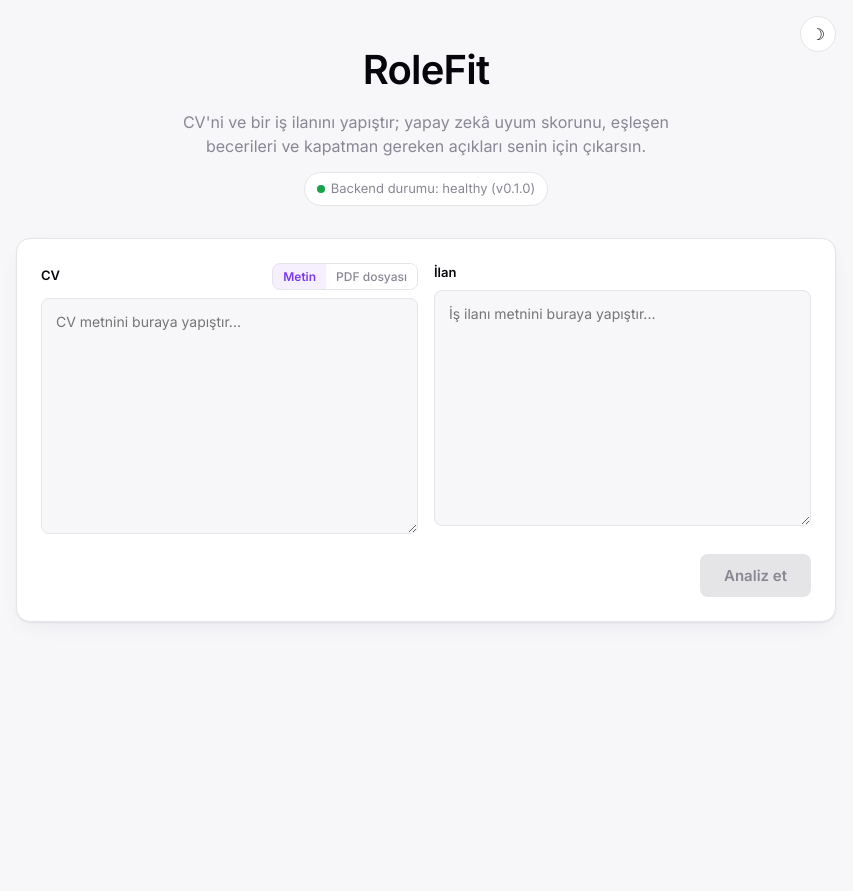
Test case: App › shows the analysis result after a successful submit
Step 1. Type "Örnek CV metni" into the text box labelled "CV" → (230, 416), box [41,298,418,534]
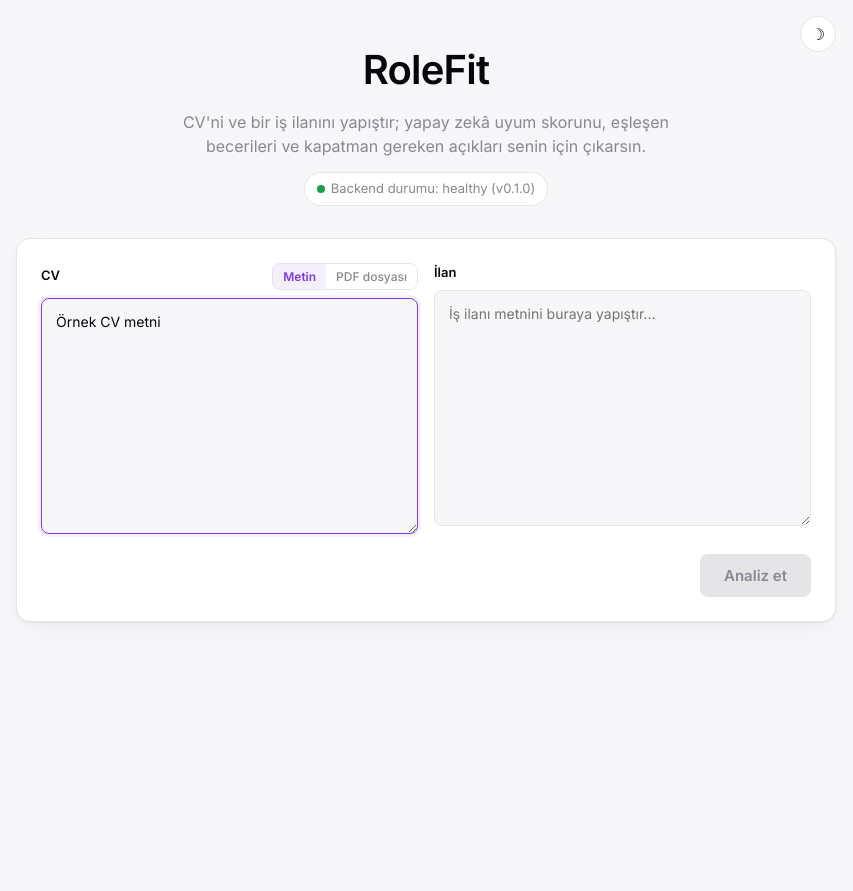
Step 2. Type "Örnek ilan metni" into the text box labelled "İlan" → (622, 408), box [434,290,811,526]
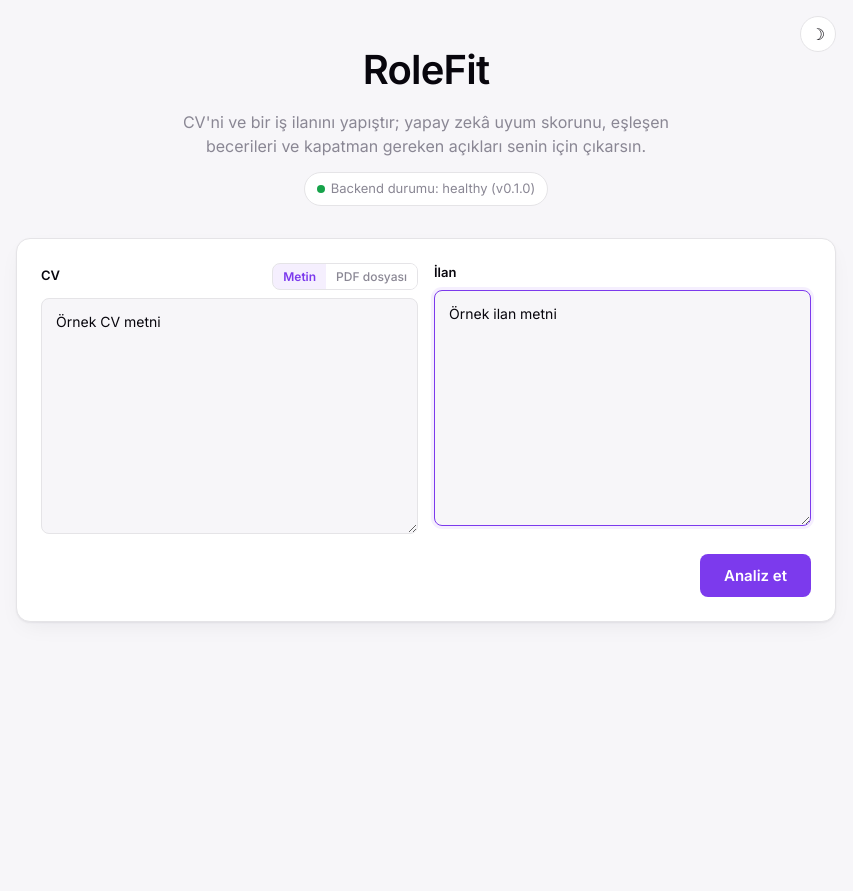
Step 3. Click the button "Analiz et" → (756, 575), box [700,554,811,596]
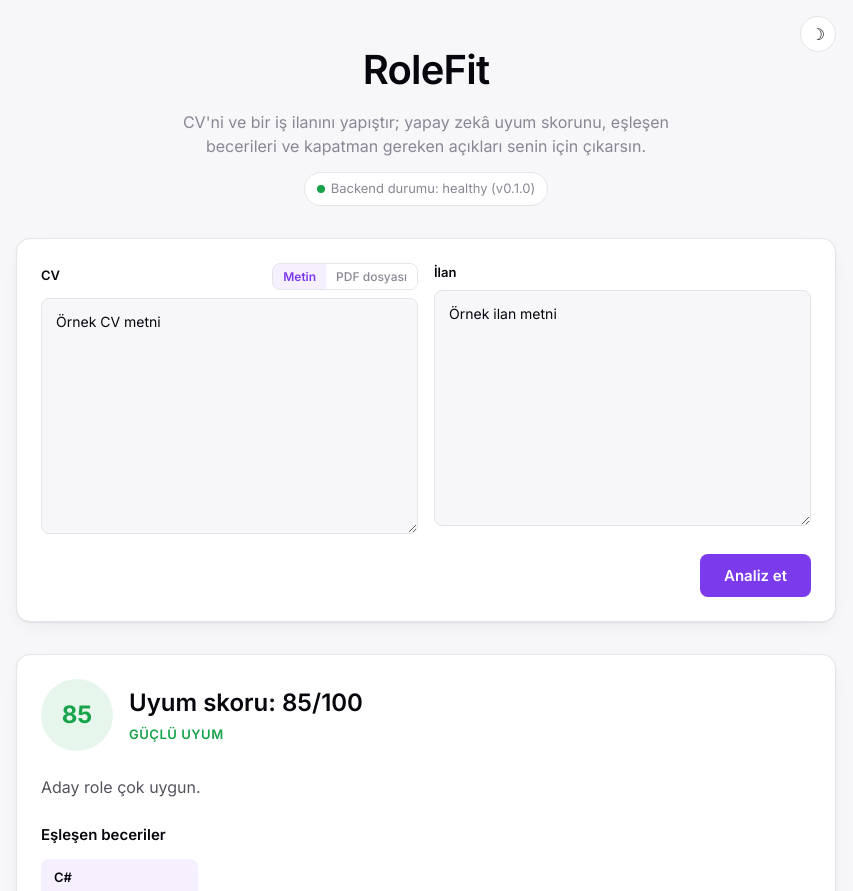
Now the heading "Uyum skoru: 85/100" is shown, box [129,684,363,720]
